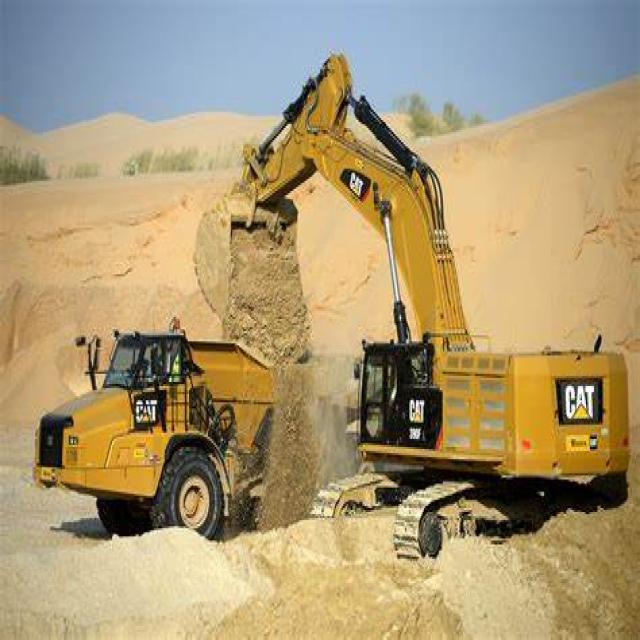dump_truck: (46, 325, 400, 555)
excavator: (190, 53, 639, 569)
